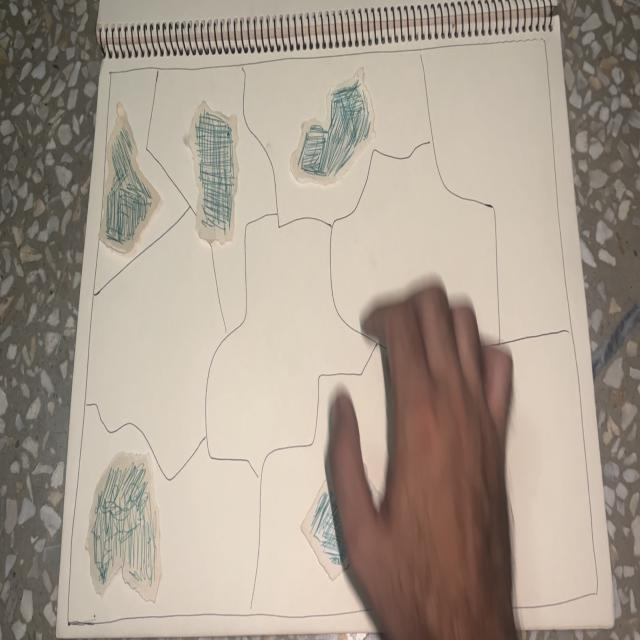paper: (82, 449, 164, 612), (288, 57, 382, 194), (297, 466, 400, 584), (98, 94, 162, 264), (182, 94, 242, 249)
